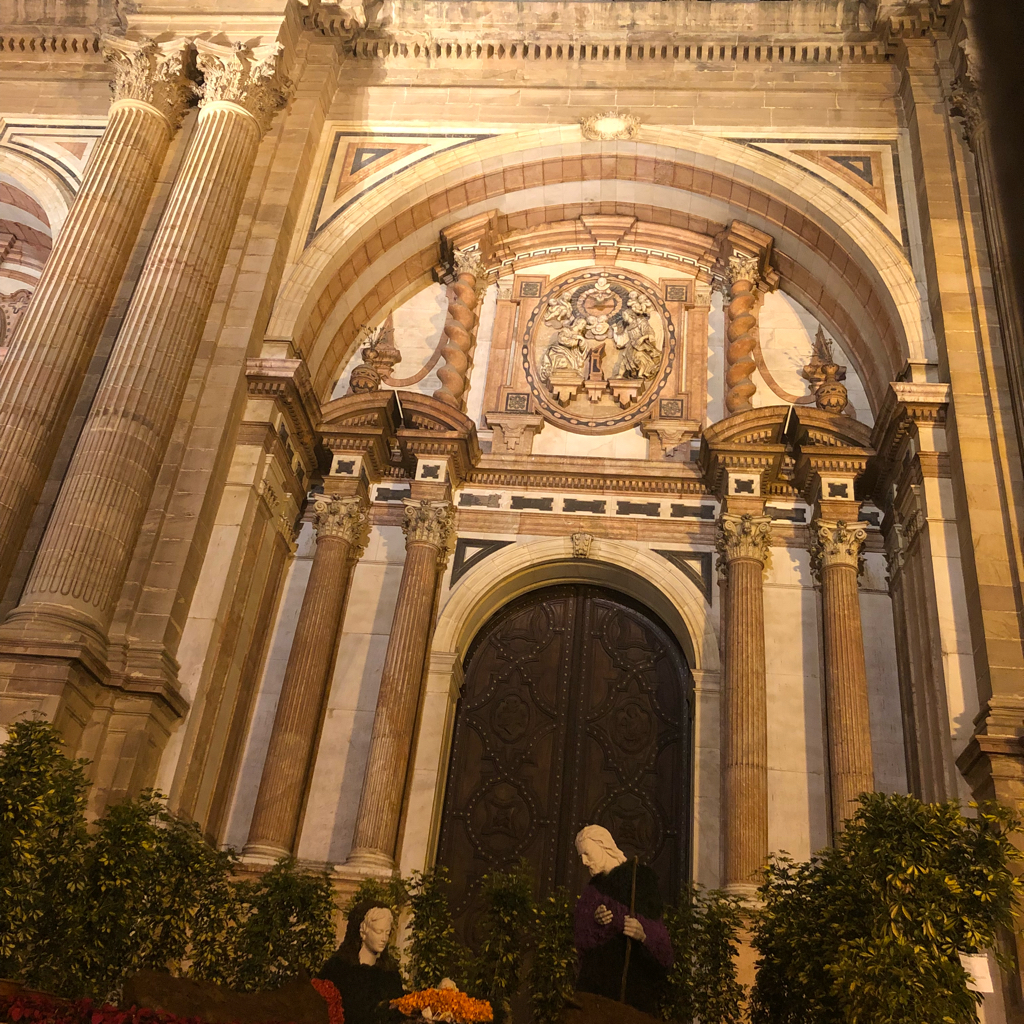arco-medio-punto: (265, 142, 931, 469), (444, 547, 714, 736)
columna-salomonica: (436, 267, 482, 403), (723, 265, 760, 416)
fronton-partido: (699, 400, 878, 461), (312, 394, 476, 450)
